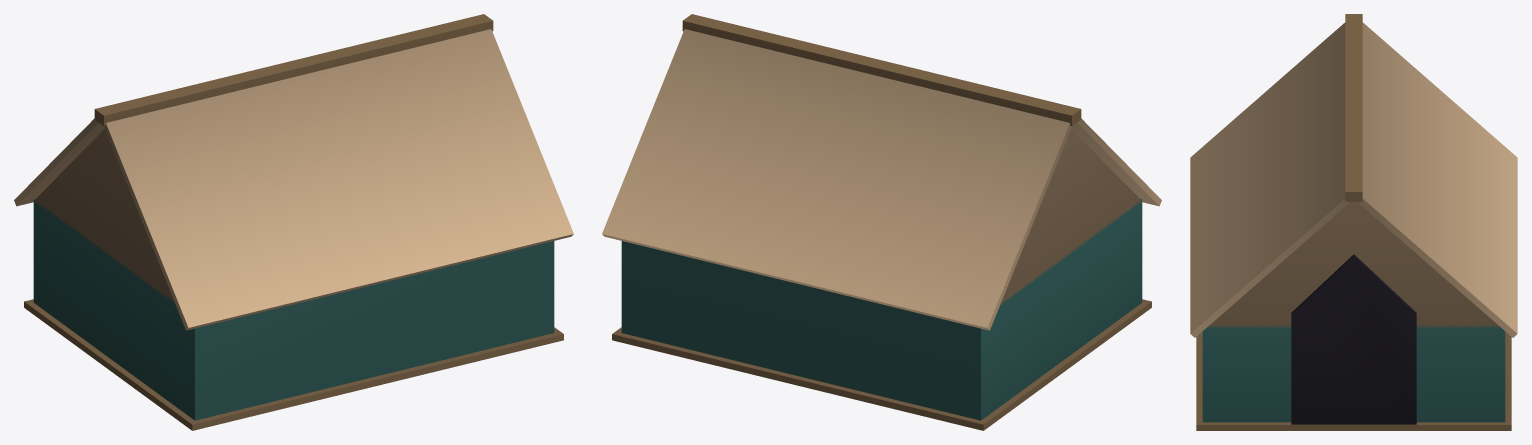
3 views of the same model, side by side, from view 1: azimuth 30°, elevation 25°; view 2: azimuth 150°, elevation 25°; view 3: azimuth 270°, elevation 25° (orthographic). The views are drawn at different scales.
Visible parts, largest first — view 1: body_pal_picketWhite; view 2: body_pal_picketWhite; view 3: body_pal_picketWhite.
Boxes of the visible parts, x1=… form: body_pal_picketWhite: x1=14, y1=14, x2=573, y2=430; body_pal_picketWhite: x1=602, y1=14, x2=1161, y2=430; body_pal_picketWhite: x1=1190, y1=14, x2=1517, y2=430.
Size of the model in its own units: 3.9 by 2.48 by 3.03.
